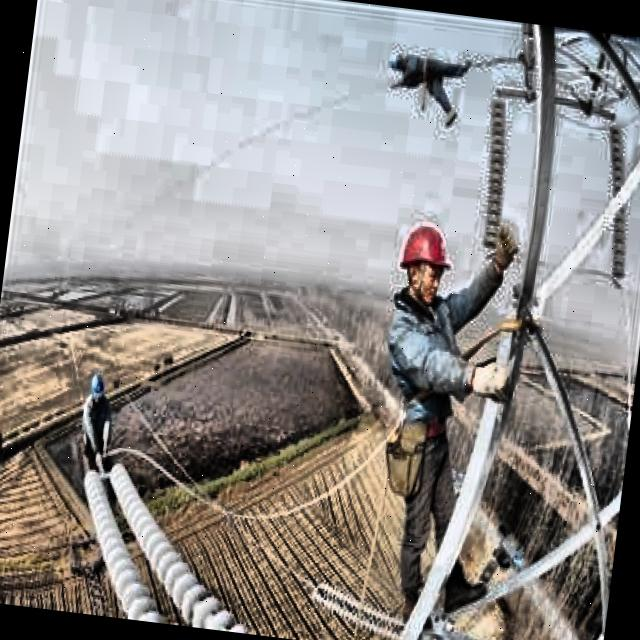helmet: (392, 218, 456, 308), (88, 367, 110, 407)
